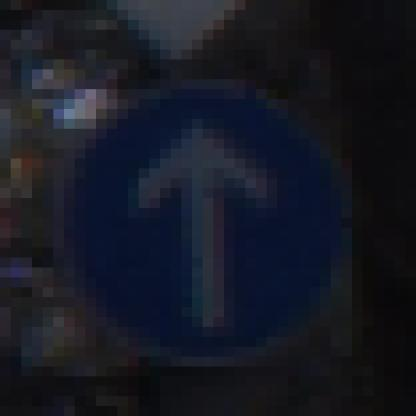AheadOnly: (54, 61, 364, 368)
